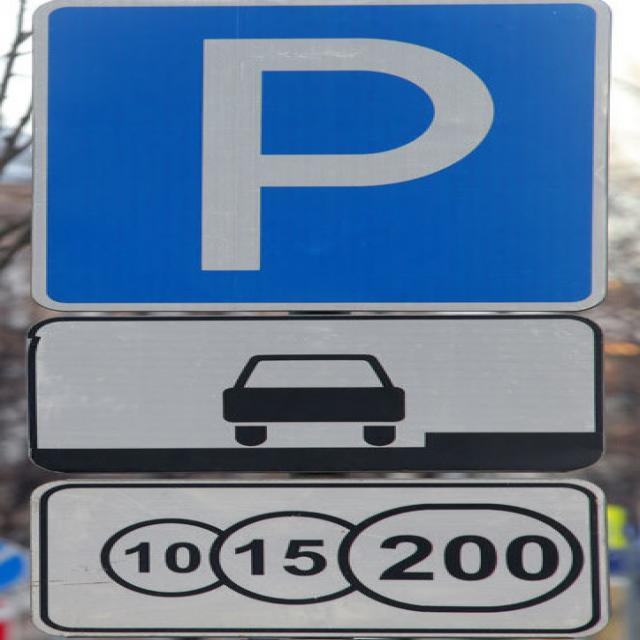parking: (28, 1, 612, 316)
